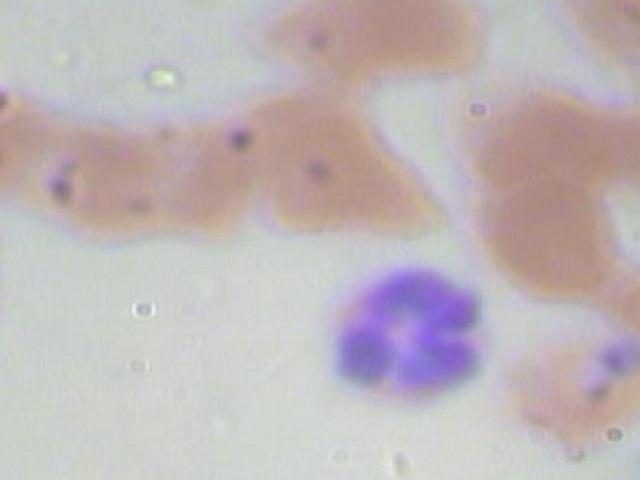RBC: (252, 0, 485, 92), (468, 176, 621, 297), (0, 196, 4, 358)
WBC: (314, 258, 508, 412)
